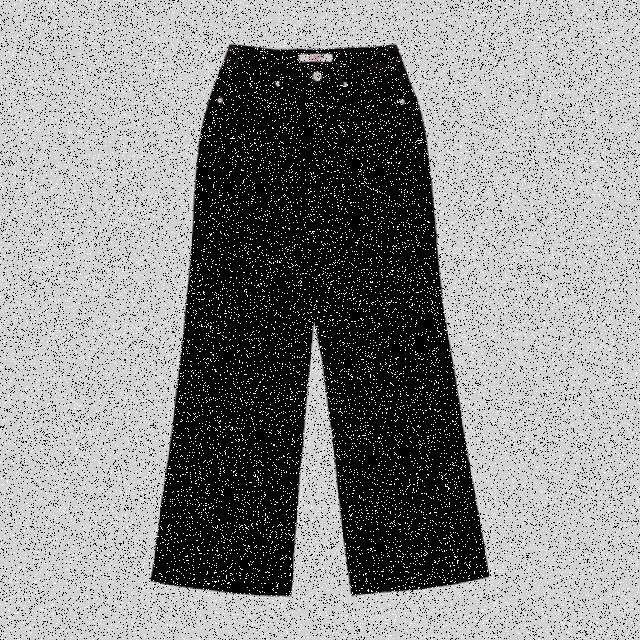dress: (166, 37, 492, 605)
